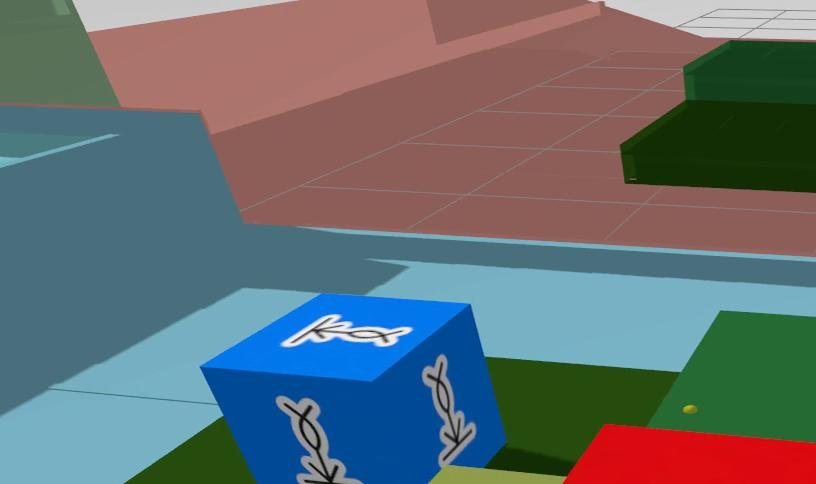KFS_FAKE: (565, 427, 816, 484)
KFS_REAL: (201, 294, 506, 484), (276, 396, 364, 484), (422, 355, 476, 465), (280, 314, 411, 347)
